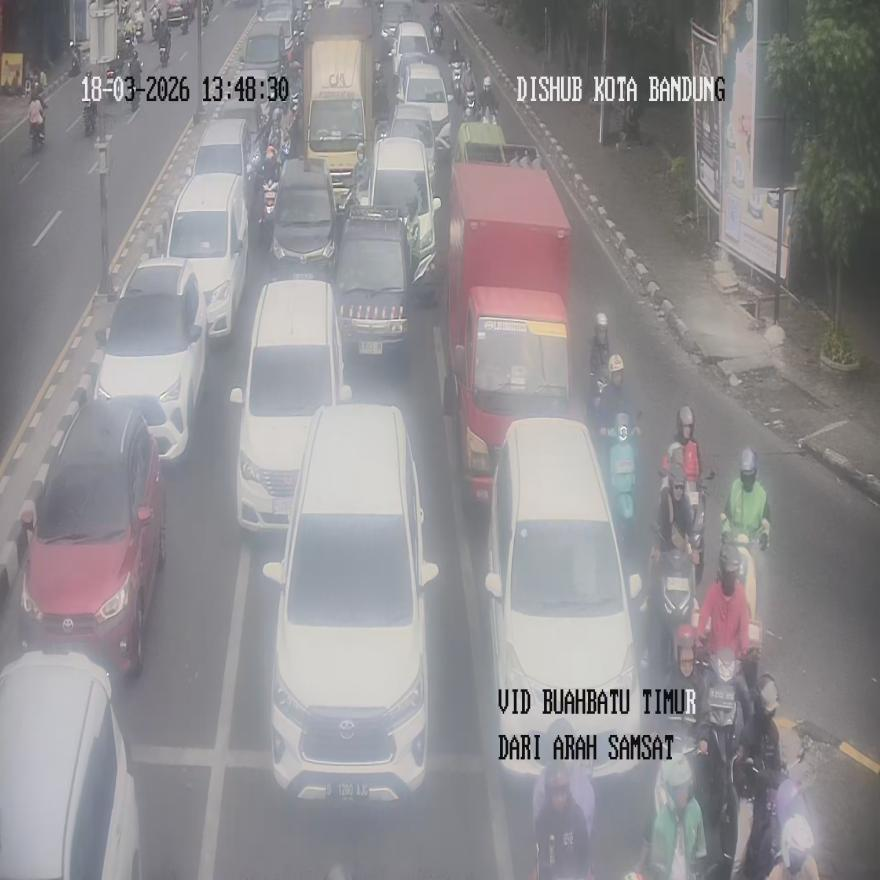Mobil: (263, 404, 438, 804), (482, 413, 640, 777), (18, 391, 165, 677), (0, 650, 143, 880), (230, 277, 350, 530), (94, 257, 207, 460), (164, 171, 248, 337), (333, 199, 415, 364), (268, 157, 338, 277)
Truk berat: (303, 3, 374, 202)
Truk ringan: (444, 159, 573, 500)
